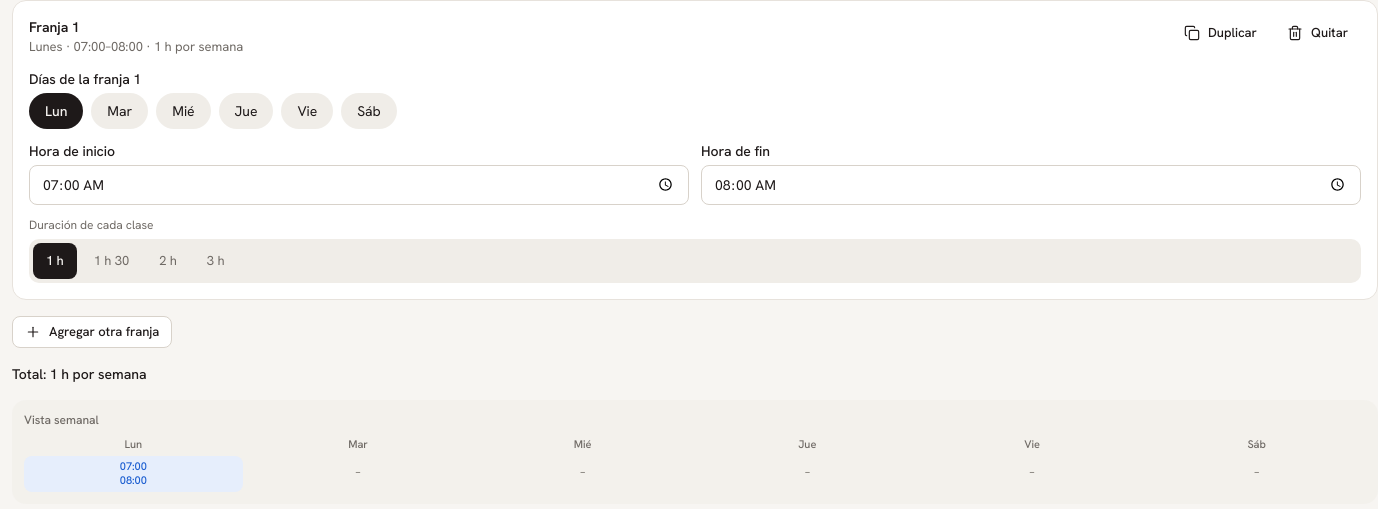
Test: HorarioSemanal › activar o apagar días de una franja genera o quita sus bloques de golpe y actualiza el total
Check: the text "Total: 1 h por semana" is shown, box [12,364,146,382]
Click the button named "Miércoles": x=183, y=110 [156,92,211,128]
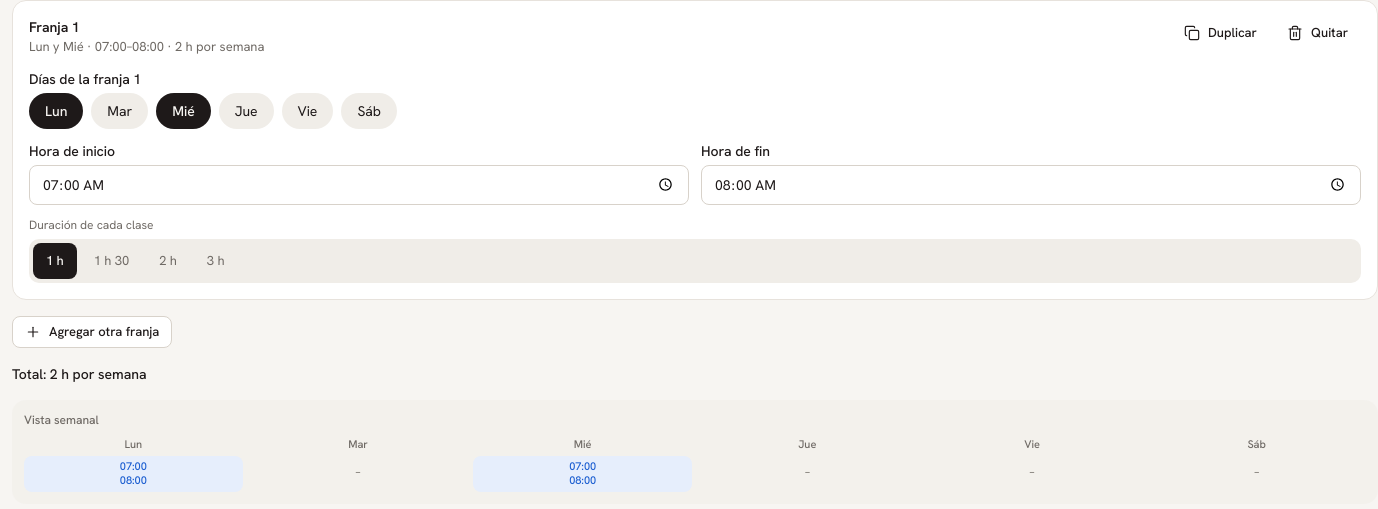
Click the button named "Viernes": x=308, y=110 [282,92,333,128]
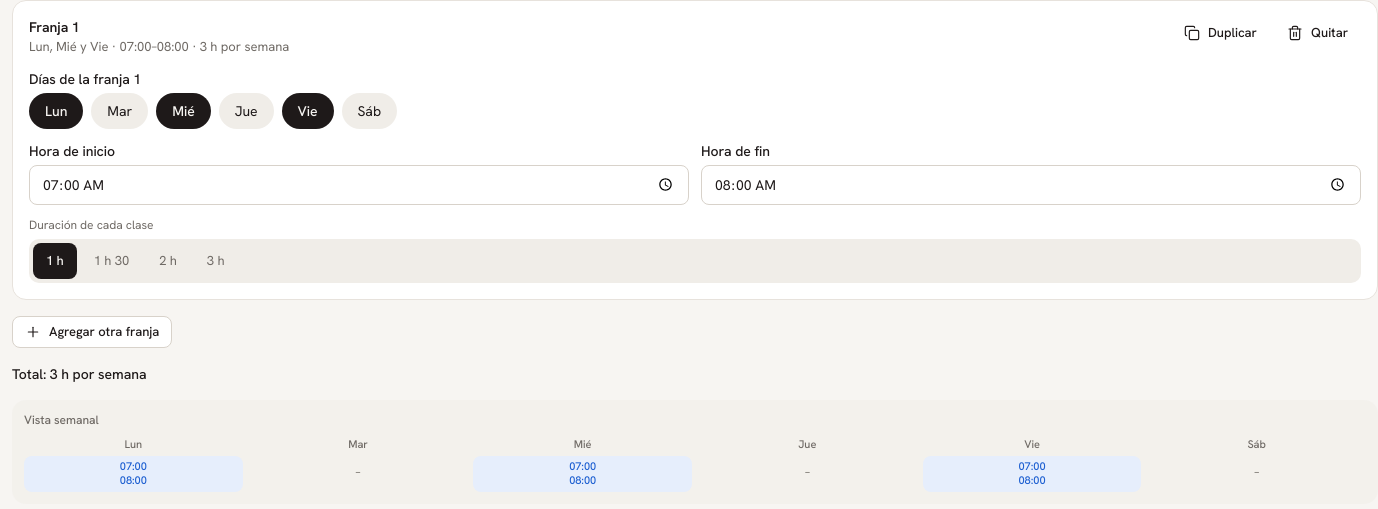
Check: the text "Total: 3 h por semana" is shown, box [12,364,146,382]
Click the button named "Lunes": x=56, y=110 [29,92,83,128]
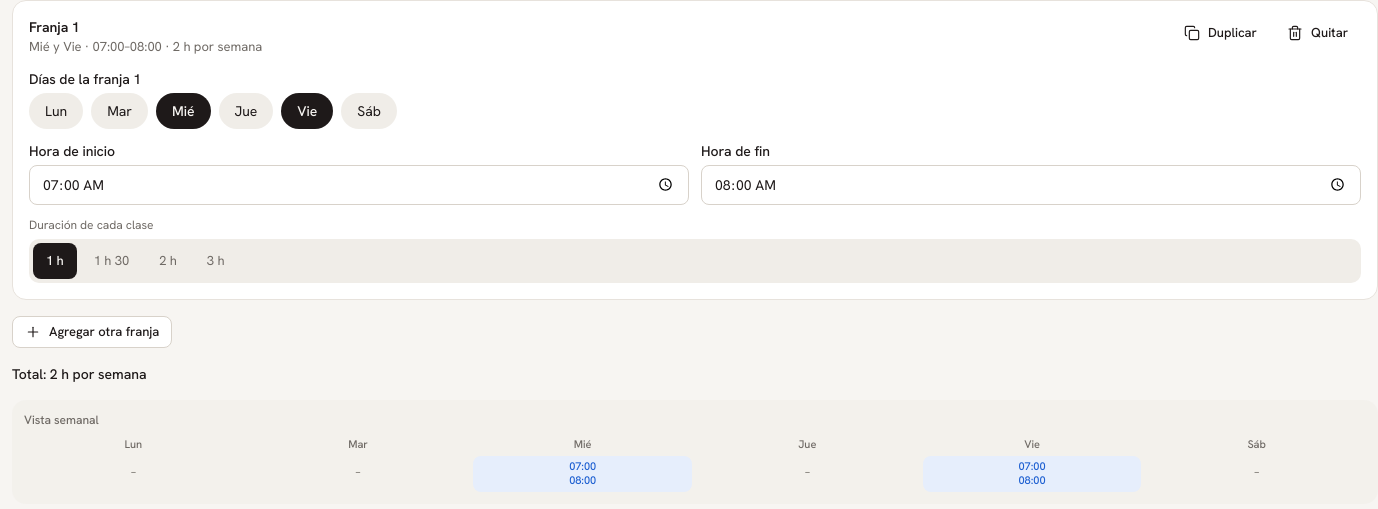
Check: the text "Total: 2 h por semana" is shown, box [12,364,146,382]
